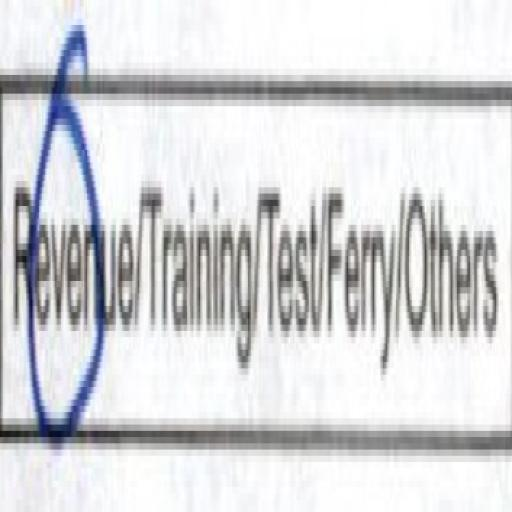check: (2, 63, 136, 428)
